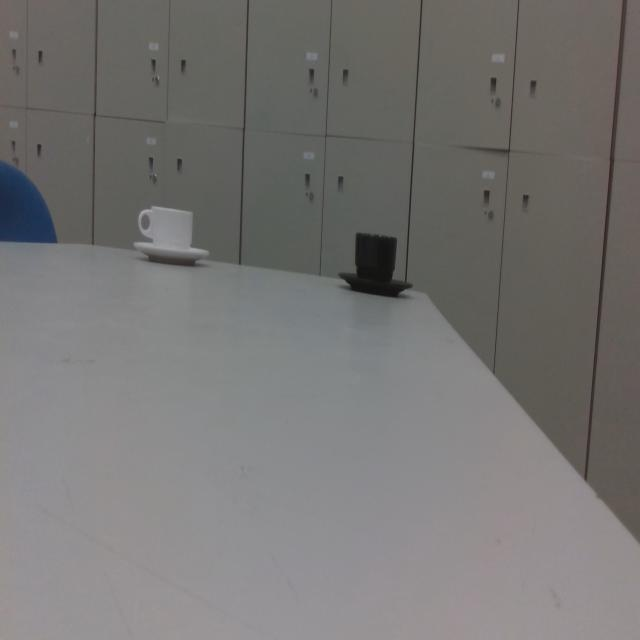black: (336, 230, 415, 298)
white: (132, 205, 213, 267)
